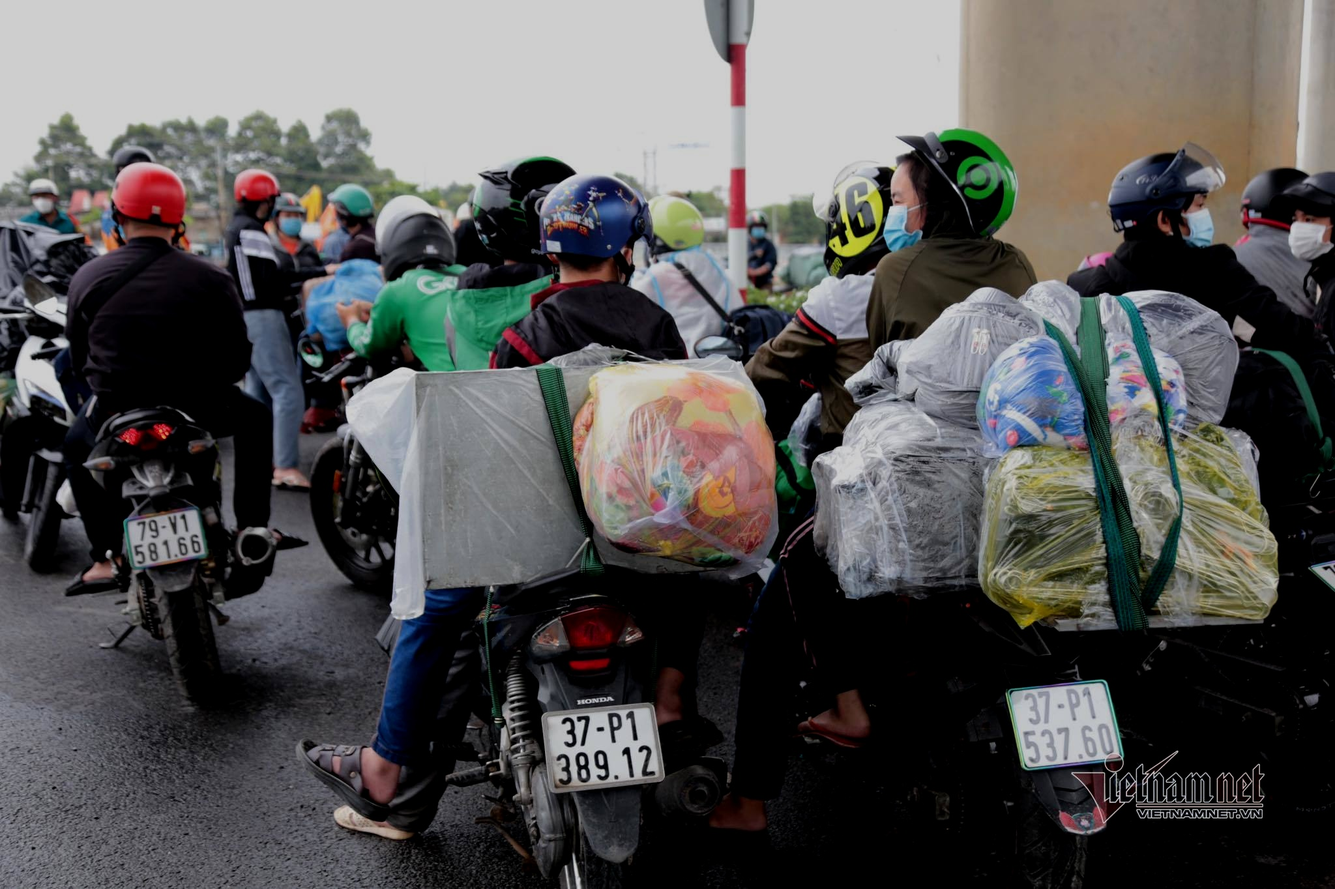Bien-so: (590, 723, 710, 820), (1039, 697, 1151, 791), (185, 523, 264, 592)
